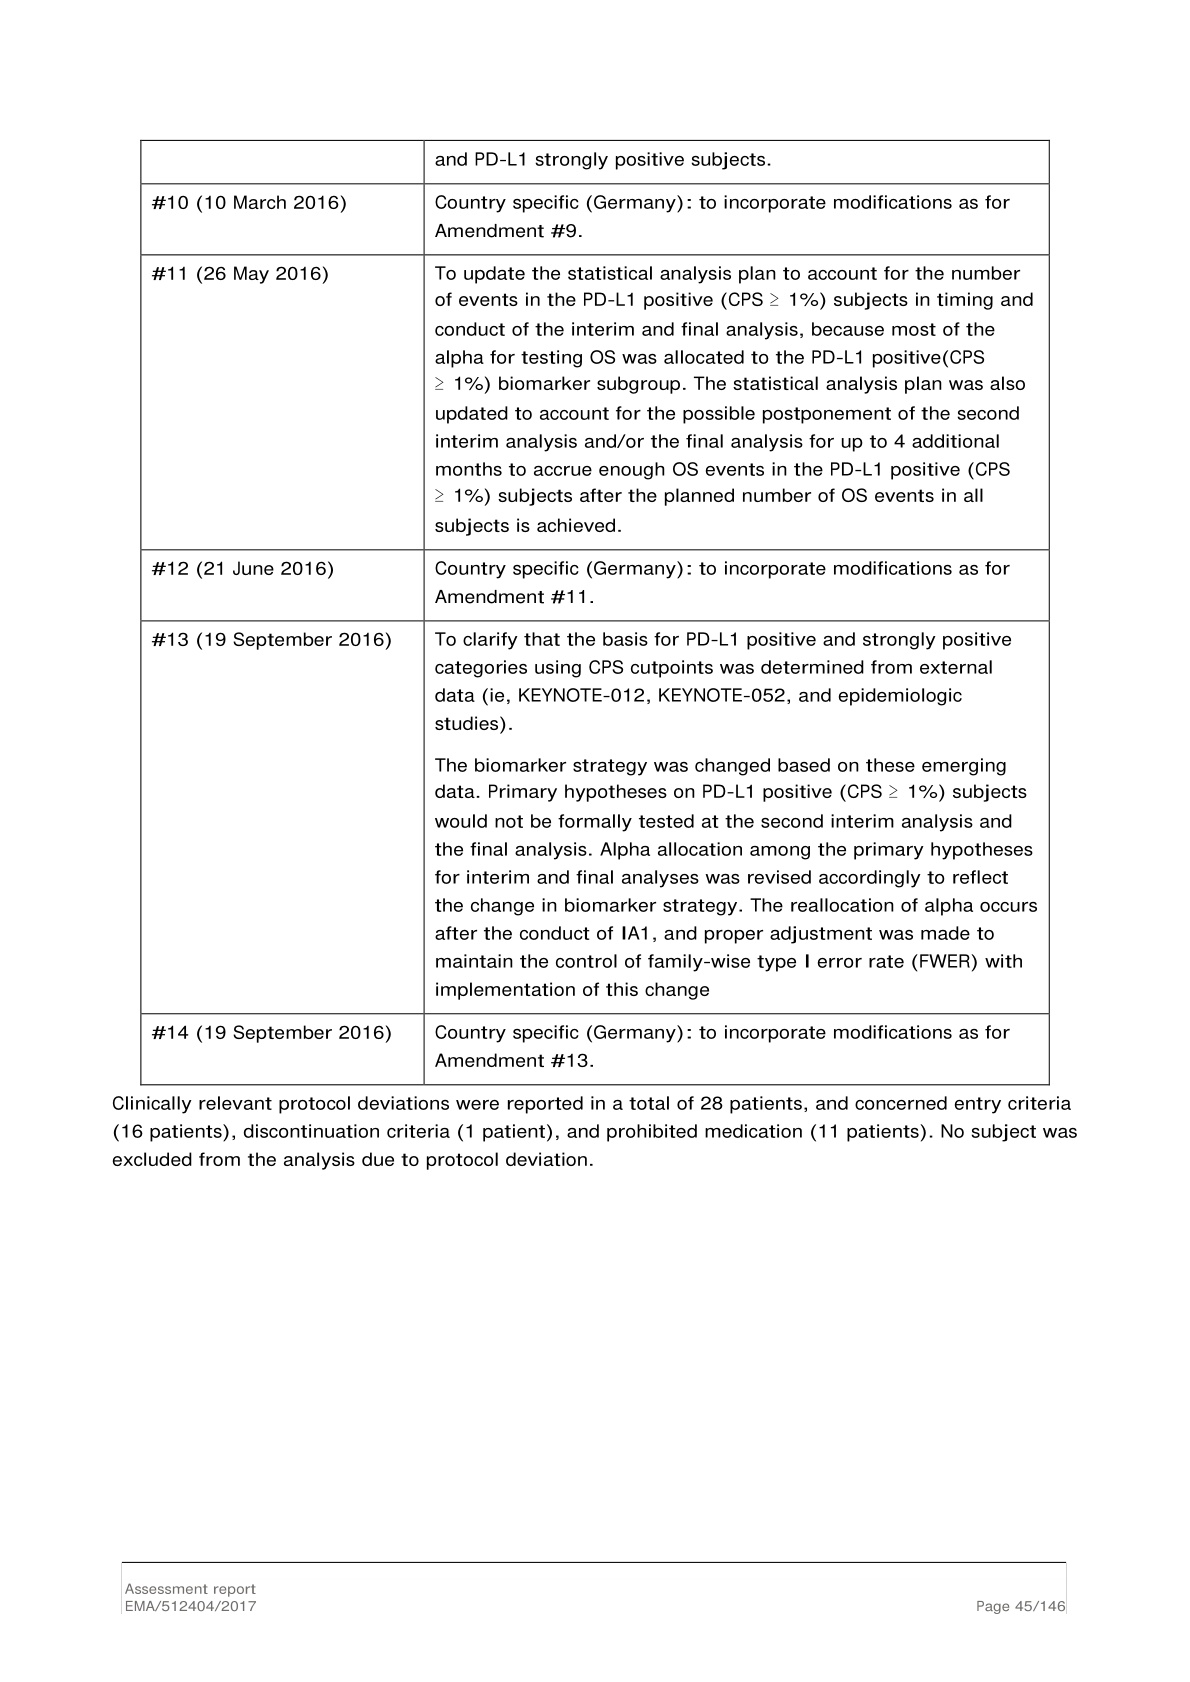full_lined: (140, 139, 1050, 1086)
